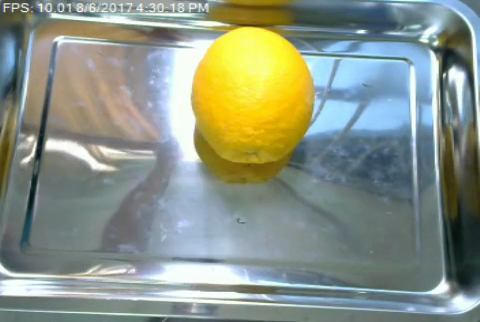Orange: (190, 27, 318, 164)
